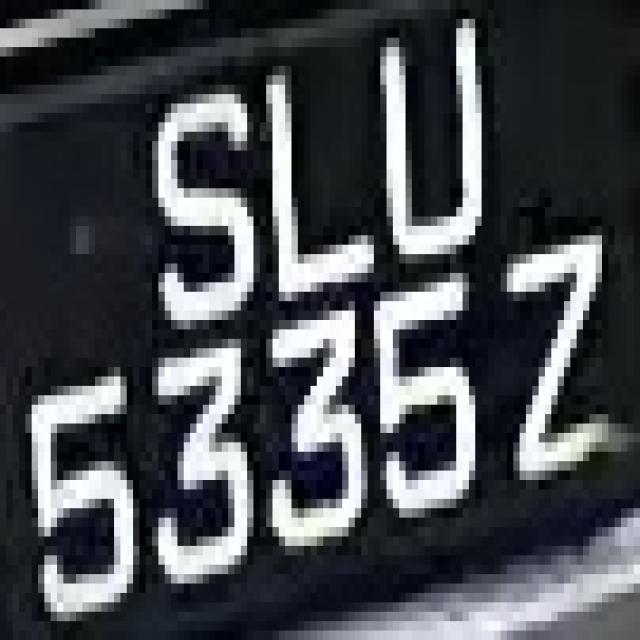3: (235, 301, 380, 574), (127, 329, 260, 612)
5: (348, 273, 488, 546), (12, 348, 146, 621)
L: (247, 66, 374, 301)
S: (120, 57, 254, 367)
U: (361, 38, 494, 273)
Z: (488, 197, 634, 498)
